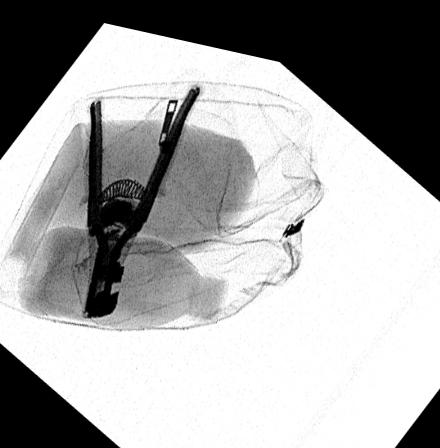Pliers: (79, 73, 203, 316)
